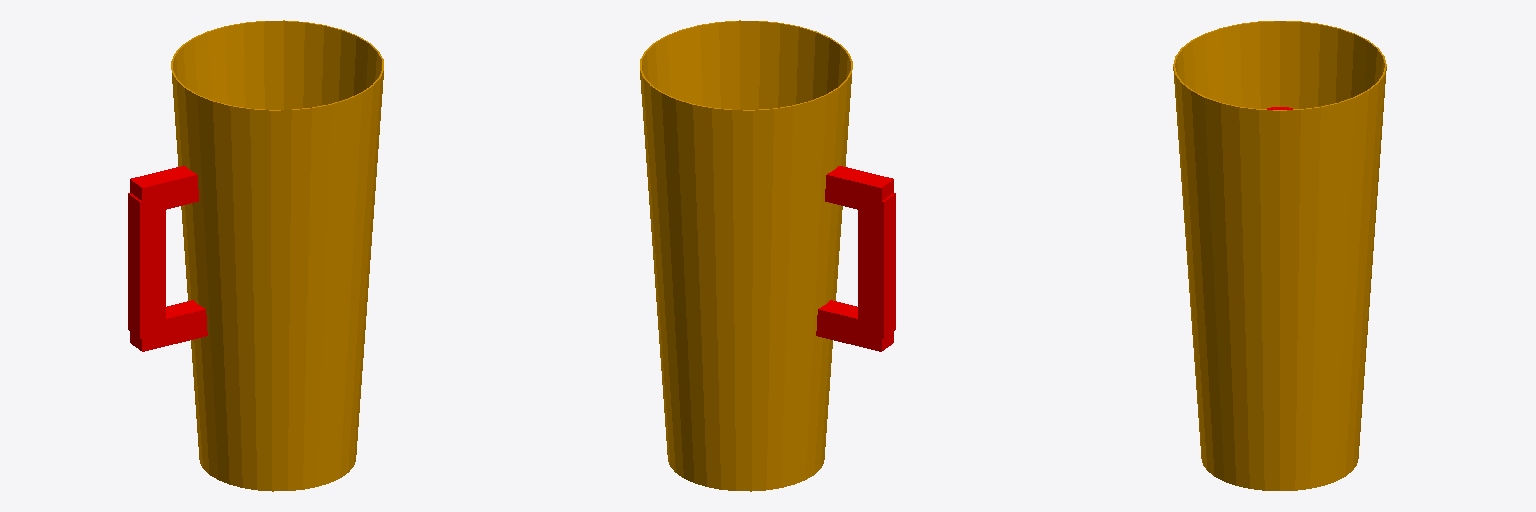
URDF robot description (cup):
<?xml version="1.0"?>
<robot name="cup">
  <link name="cup_link">
    <contact>
      <lateral_friction value="100.0"/>
      <spinning_friction value=".001"/>
    </contact>
    <inertial>
      <origin rpy="0 0 0" xyz="0 0 0"/>
      <mass value="0.02"/>
      <inertia ixx="1" ixy="0" ixz="0" iyy="1" iyz="0" izz="1"/>
    </inertial>
    <visual>
      <origin rpy="0 0 0" xyz="-0.125 0 0.175"/>
      <geometry>
        <box size="0.075 0.025 0.03"/>
      </geometry>
      <material name="blockmat">
        <color rgba="1.0 0.0 0.0 1"/>
      </material>
    </visual>
    <collision>
      <origin rpy="0 0 0" xyz="-0.125 0 0.175"/>
      <geometry>
        <box size="0.075 0.025 0.03"/>
      </geometry>
    </collision>
    <visual>
      <origin rpy="0 1.570796 0" xyz="-0.15 0.0 0.25"/>
      <geometry>
        <box size="0.15 0.025 0.03"/>
      </geometry>
      <material name="blockmat">
        <color rgba="1.0 0.0 0.0 1"/>
      </material>
    </visual>
    <collision>
      <origin rpy="0 1.570796 0" xyz="-0.15 0.0 0.25"/>
      <geometry>
        <box size="0.15 0.025 0.03"/>
      </geometry>
    </collision>
    <visual>
      <origin rpy="0 0 0" xyz="-0.125 0.0 0.325"/>
      <geometry>
        <box size="0.075 0.025 0.03"/>
      </geometry>
      <material name="blockmat">
        <color rgba="1.0 0.0 0.0 1"/>
      </material>
    </visual>
    <collision>
      <origin rpy="0 0 0" xyz="-0.125 0.0 0.325"/>
      <geometry>
        <box size="0.075 0.025 0.03"/>
      </geometry>
    </collision>
    <visual>
      <origin rpy="1.570796 0 0" xyz="0 0 0"/>
      <geometry>
        <mesh filename="meshes/cup.obj"/>
      </geometry>
    </visual>
    <collision concave="yes">
      <origin rpy="1.570796 0 0" xyz="0 0 0"/>
      <geometry>
        <mesh filename="meshes/cup.obj"/>
      </geometry>
    </collision>
  </link>
</robot>

--- What the picture shows (computed from the rendered views, not written in the file) ---
The picture shows the robot from 3 angles, left to right: view 1: azimuth 30°, elevation 25°; view 2: azimuth 150°, elevation 25°; view 3: azimuth 270°, elevation 25°; orthographic projection.
Robot: cup — 1 links, 0 joints (none); root link cup_link; default pose: every joint at zero.
Visible links, largest first — view 1: cup_link; view 2: cup_link; view 3: cup_link.
Boxes of the visible links, x1,y1,x2,y2 form: cup_link: (128, 20, 383, 491); cup_link: (640, 20, 895, 491); cup_link: (1173, 21, 1386, 490).
Bounding box of the posed robot: 0.2713 × 0.2127 × 0.4311 m (x, y, z).
Meshes: 1 distinct files referenced, 1 mesh visuals loaded (1 OBJ).